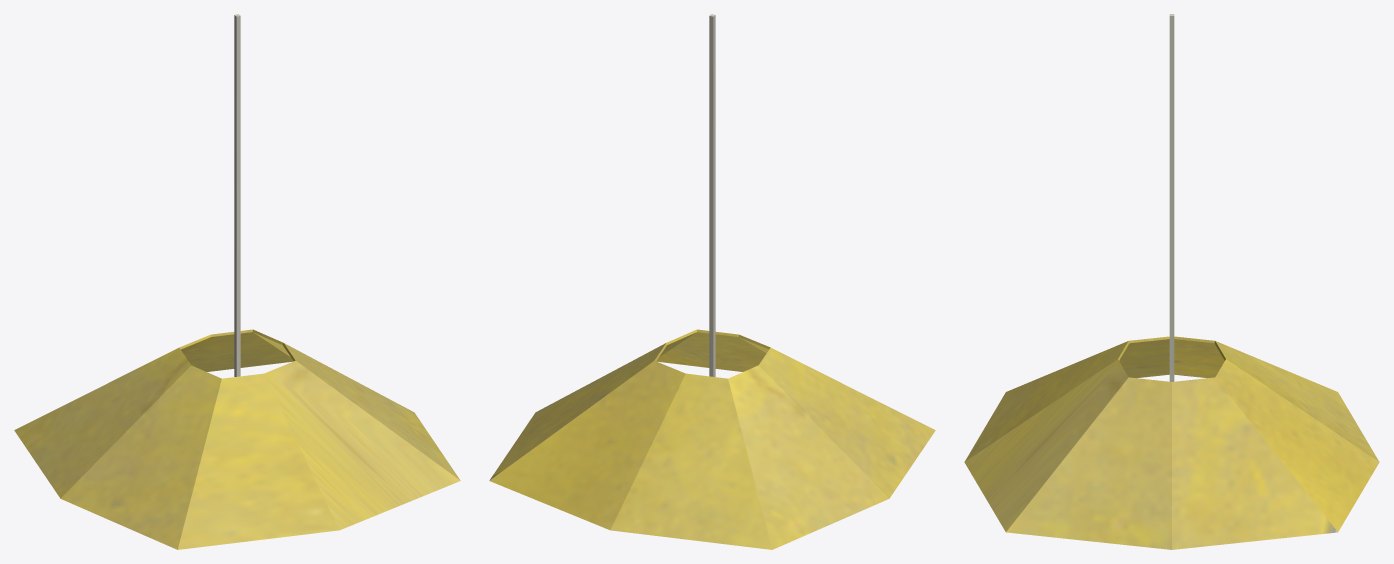
The model's file is Lumiere.fbx.
3 renders of one model, left to right at view 1: azimuth 30°, elevation 25°; view 2: azimuth 150°, elevation 25°; view 3: azimuth 270°, elevation 25°, orthographic.
Parts seen in each view (by area): view 1: Cube; view 2: Cube; view 3: Cube.
Part boxes in pixels (bbox=[...]): Cube: bbox=[14, 14, 460, 549]; Cube: bbox=[489, 14, 935, 549]; Cube: bbox=[964, 14, 1379, 549].
Bounding box in the file's own units: 326 × 415 × 326.
